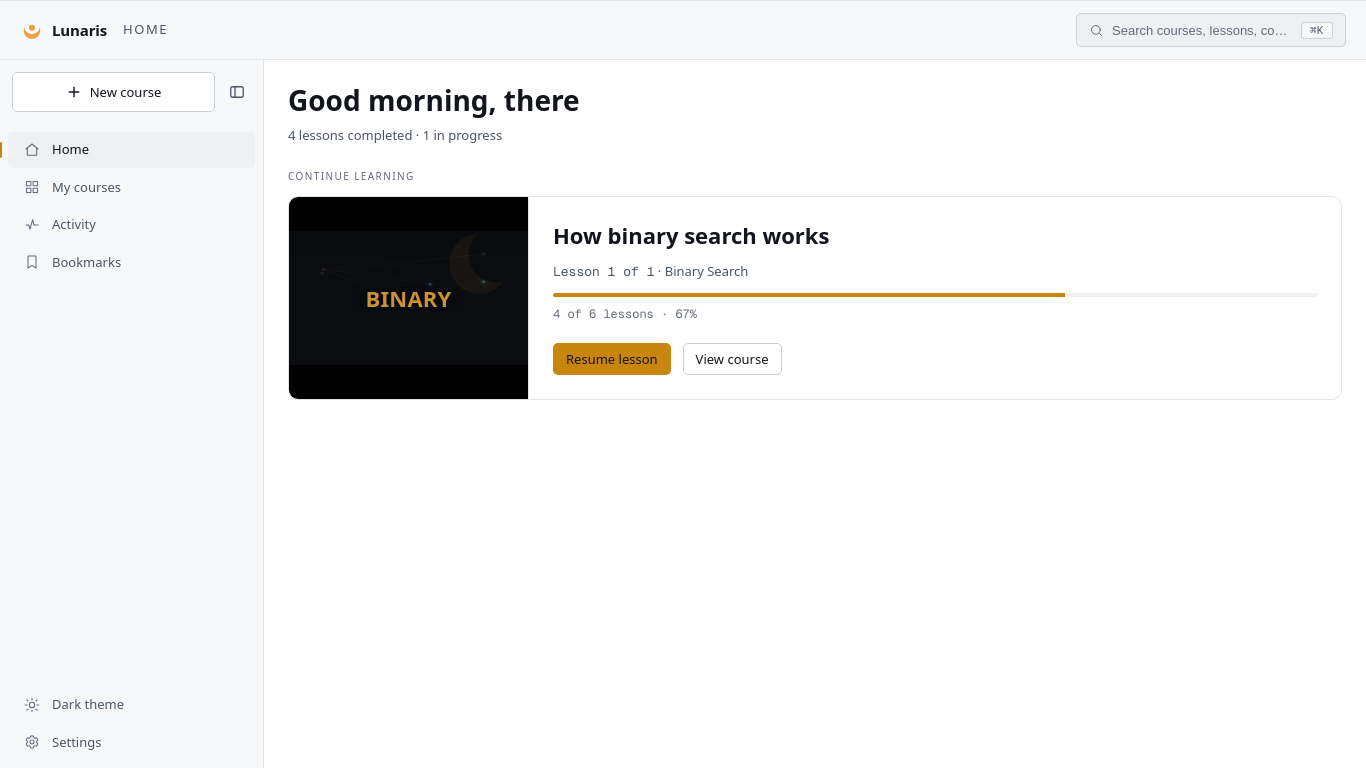
Test: App — URL routing (live studio) › resumes an in-progress course from the Home hero straight into the reader
Expected: the text "Lesson 1 of 1" is shown, [553,263,654,280]
Click the button "Resume lesson" at (612, 359), box [553,343,671,375]
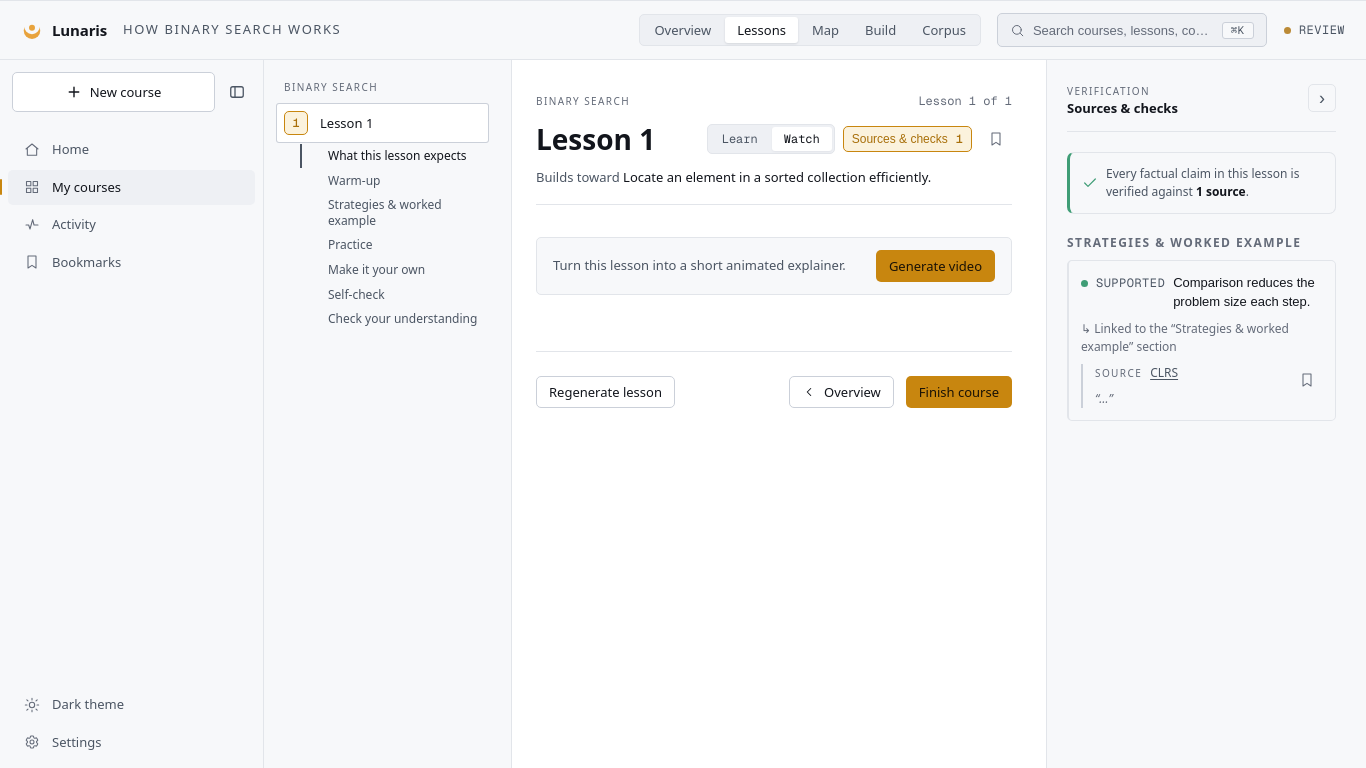
Expected: the radio button labelled "Lessons" is checked, [725,17,798,43]
Expected: the heading "How binary search works" is shown, [123,20,341,38]
